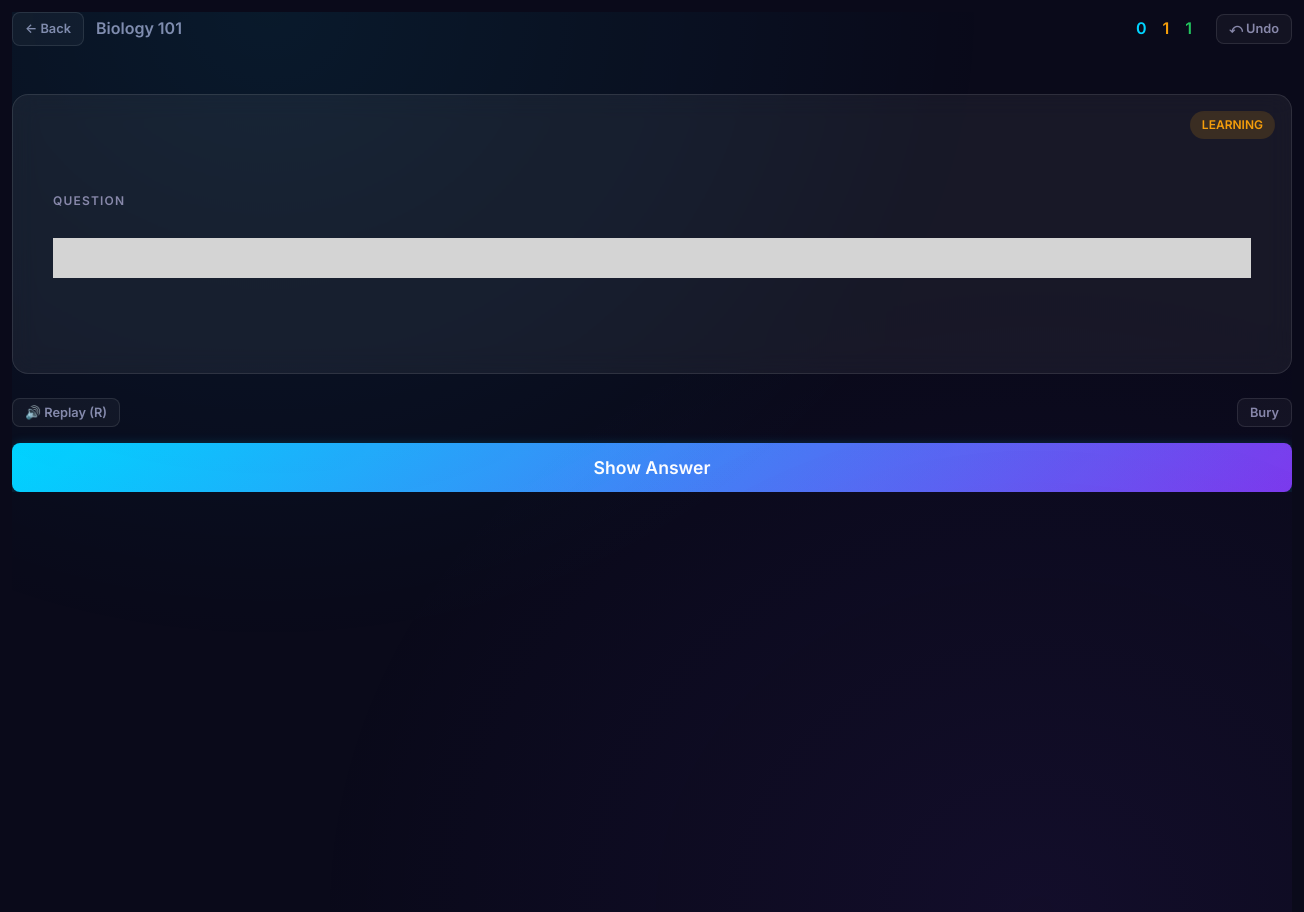
Test: Auth and Study UI flows › StudyPage renders error alert when reviewCard API submission fails
# Flip card to reveal answer
Click the button "Show Answer" at (652, 468), box [12, 444, 1292, 492]
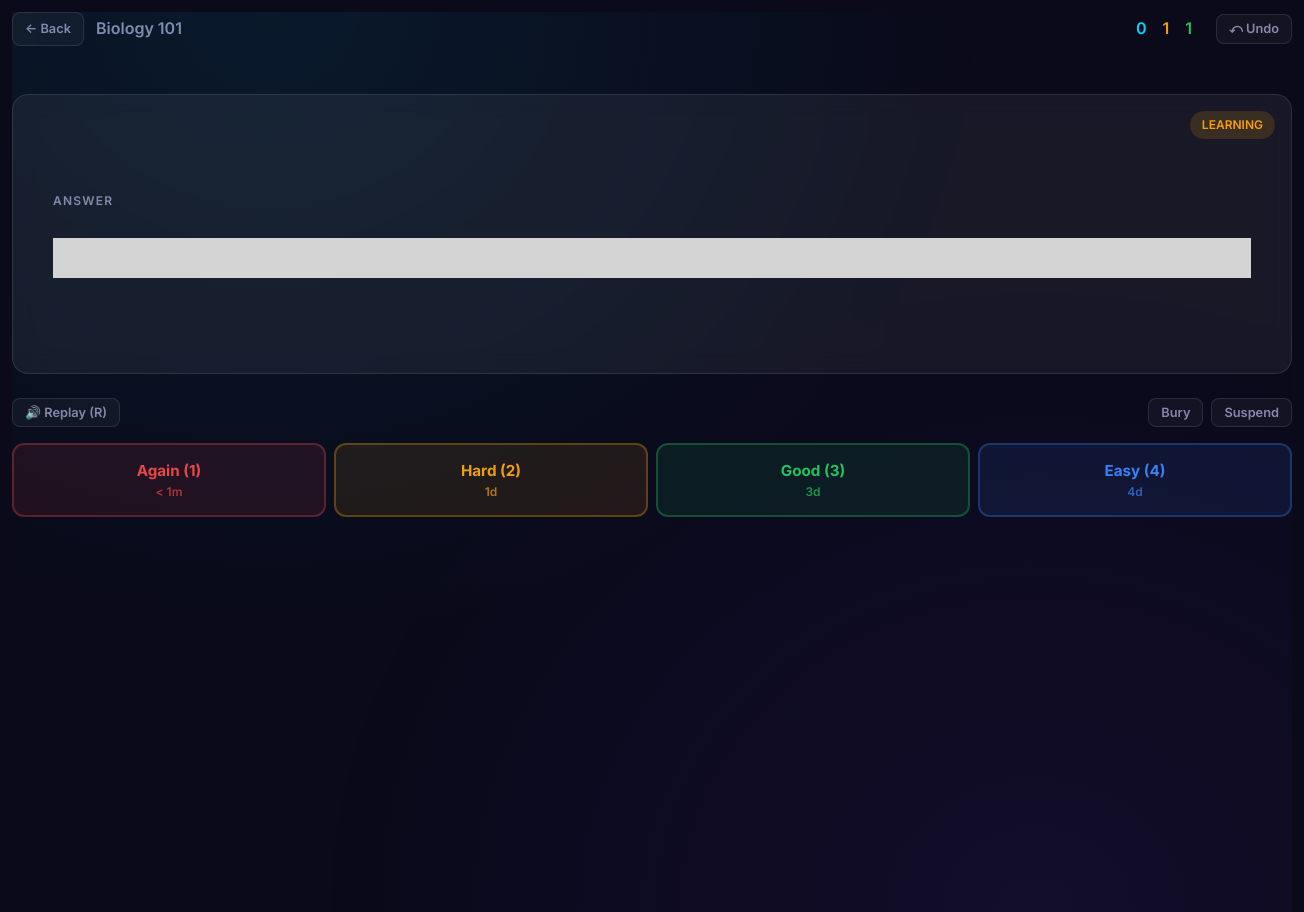
# Click rating "Good" (rating 3)
Click the button "Good (3) 3d" at (813, 480), box [656, 444, 970, 518]
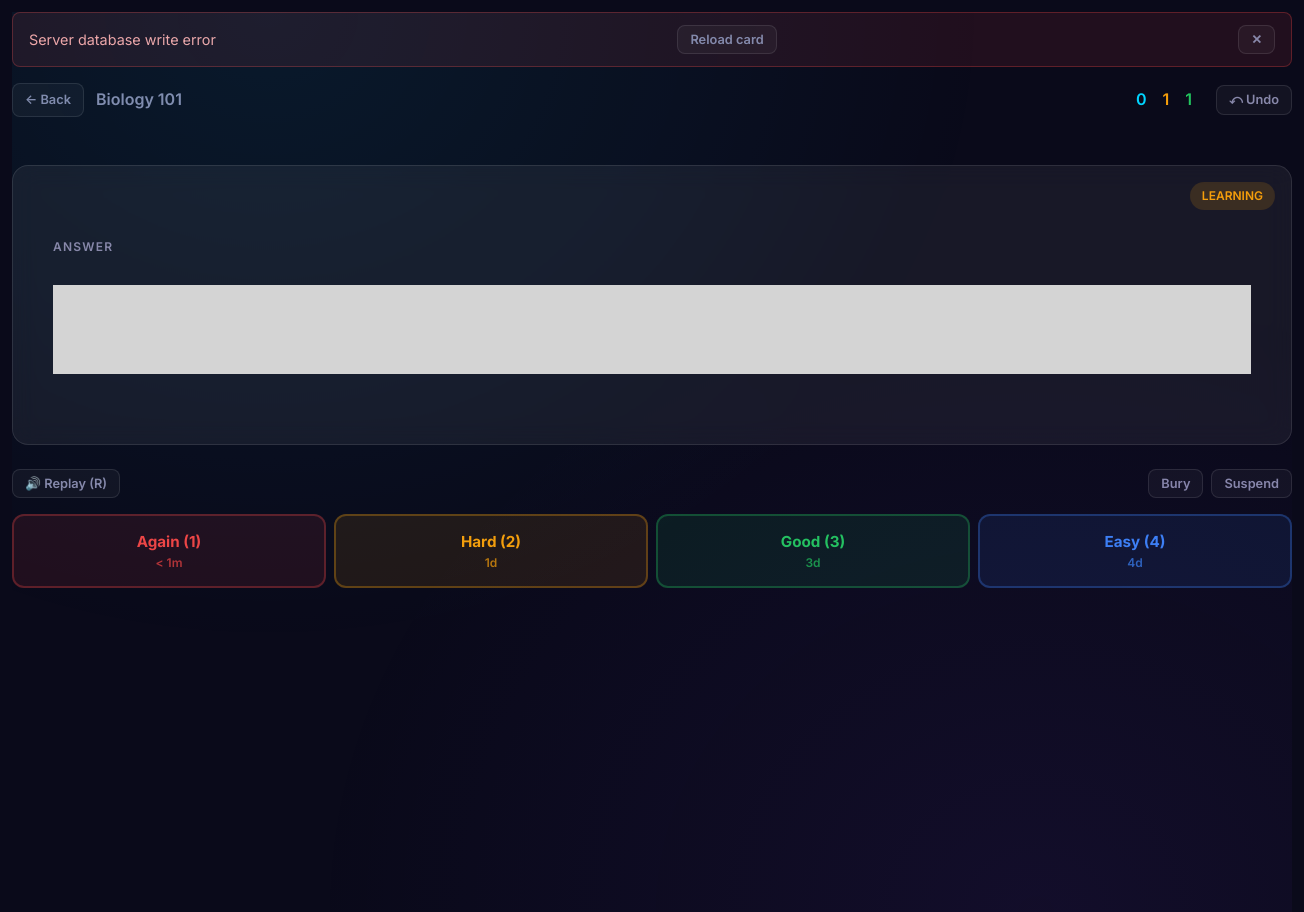
Now the text "Server database write error" is shown, box [29, 28, 216, 51]
